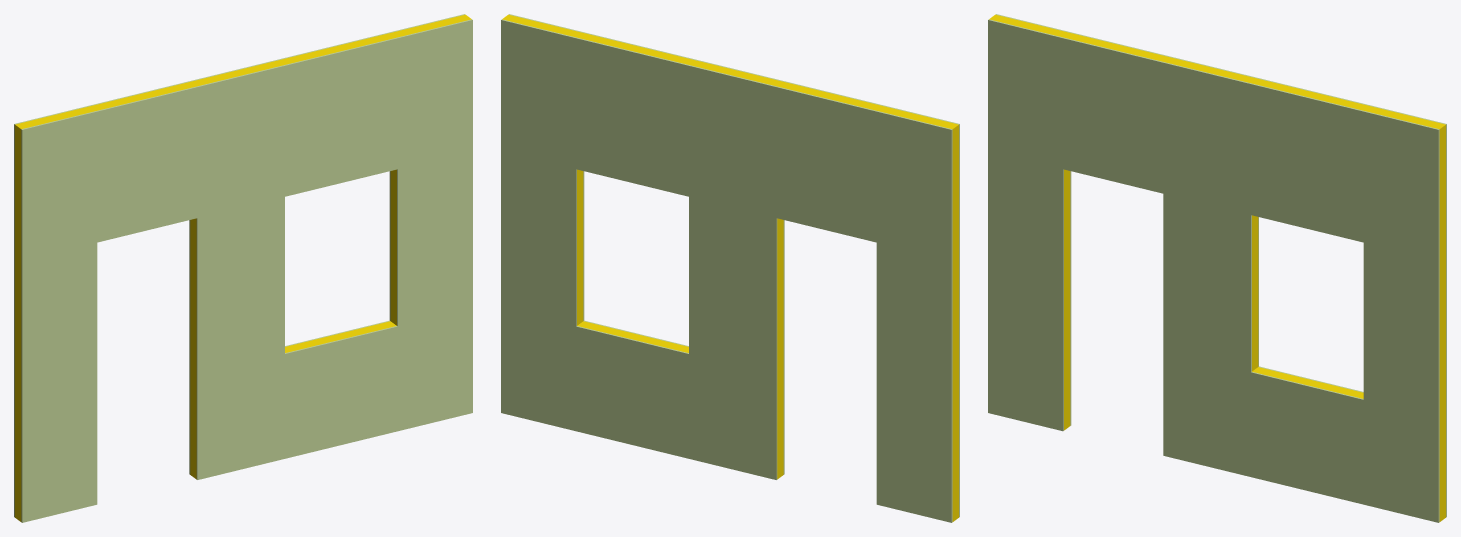
The picture shows the model from 3 angles, left to right: view 1: azimuth 30°, elevation 25°; view 2: azimuth 150°, elevation 25°; view 3: azimuth 330°, elevation 25°; orthographic projection.
Parts seen in each view (by area): view 1: 1dhqqYR5v9EPzs7Ts1dOEX, 0y81T5OQ921PKefugNkz2z, 3E4igxyD1F5w4vj3LTAREz, 3dca$PAJT1XA6b06dQW26g; view 2: 3dca$PAJT1XA6b06dQW26g, 0y81T5OQ921PKefugNkz2z, 3E4igxyD1F5w4vj3LTAREz, 1dhqqYR5v9EPzs7Ts1dOEX; view 3: 1dhqqYR5v9EPzs7Ts1dOEX, 0y81T5OQ921PKefugNkz2z, 3E4igxyD1F5w4vj3LTAREz, 3dca$PAJT1XA6b06dQW26g.
Part boxes in pixels (<box>): 1dhqqYR5v9EPzs7Ts1dOEX: <box>21,19,472,522</box>; 0y81T5OQ921PKefugNkz2z: <box>15,130,396,516</box>; 3E4igxyD1F5w4vj3LTAREz: <box>15,14,471,521</box>; 3dca$PAJT1XA6b06dQW26g: <box>14,14,464,517</box>; 3dca$PAJT1XA6b06dQW26g: <box>501,19,952,522</box>; 0y81T5OQ921PKefugNkz2z: <box>577,130,958,516</box>; 3E4igxyD1F5w4vj3LTAREz: <box>502,14,958,521</box>; 1dhqqYR5v9EPzs7Ts1dOEX: <box>509,14,959,517</box>; 1dhqqYR5v9EPzs7Ts1dOEX: <box>988,19,1439,522</box>; 0y81T5OQ921PKefugNkz2z: <box>1064,130,1445,516</box>; 3E4igxyD1F5w4vj3LTAREz: <box>989,14,1445,521</box>; 3dca$PAJT1XA6b06dQW26g: <box>996,14,1446,517</box>.
Bounding box in the file's own units: 3.66 × 3.05 × 0.1143.
